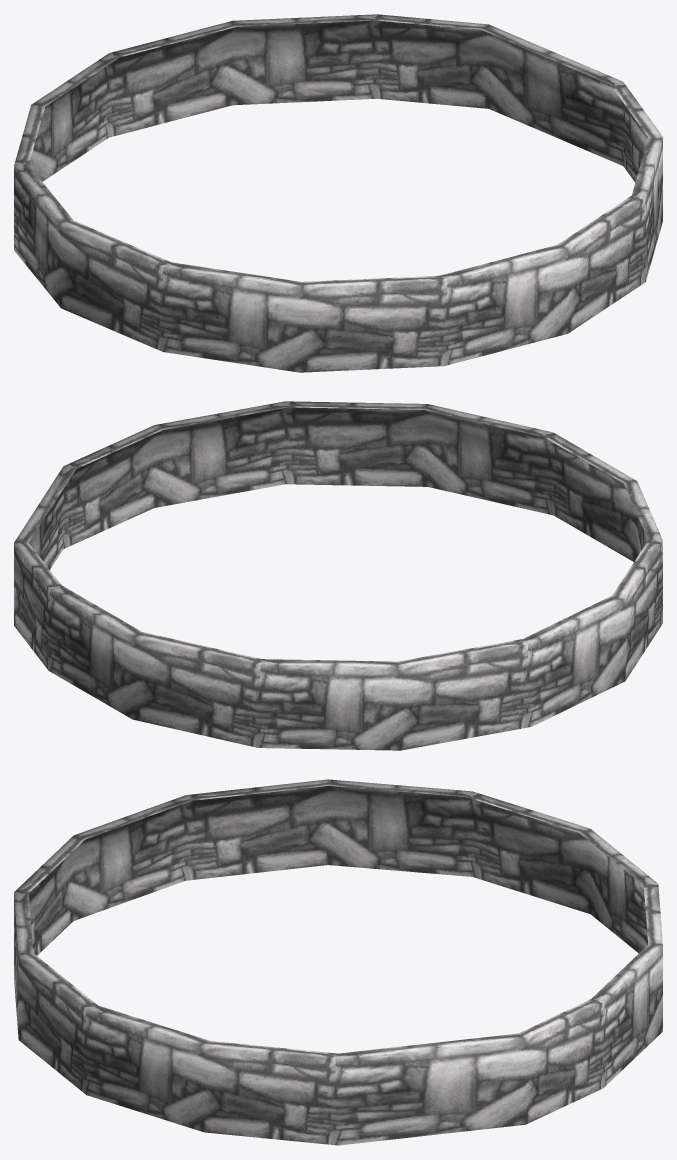
Rendered from HTOWN01_HANNA-BASE.fbx.
The picture shows the model from 3 angles, top to bottom: view 1: azimuth 30°, elevation 25°; view 2: azimuth 150°, elevation 25°; view 3: azimuth 270°, elevation 25°; orthographic projection. The views are drawn at different scales.
Visible parts, largest first — view 1: HTOWN01_HANNA-BASE; view 2: HTOWN01_HANNA-BASE; view 3: HTOWN01_HANNA-BASE.
Boxes of the visible parts, box(x1,y1,x2,y2) form: HTOWN01_HANNA-BASE: box(14, 14, 662, 372); HTOWN01_HANNA-BASE: box(14, 401, 662, 750); HTOWN01_HANNA-BASE: box(14, 779, 662, 1145).
Bounding box in the file's own units: 70260 × 10000 × 68697.
1 material, 1 textured.
